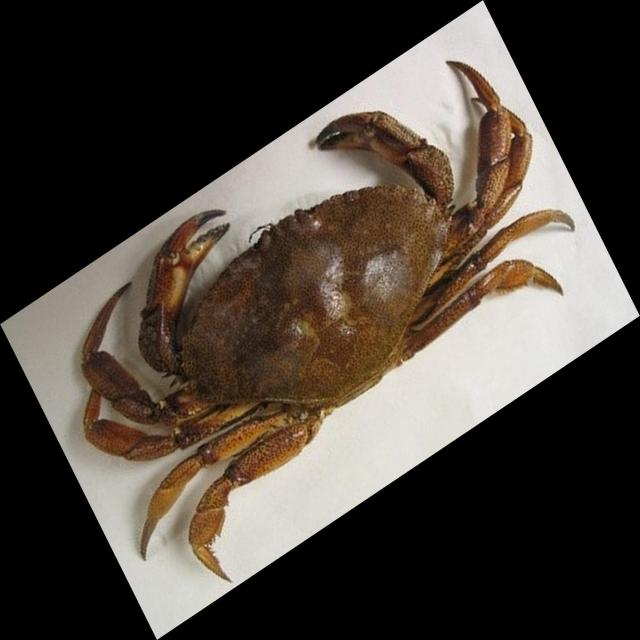Native Rock crab: (82, 61, 574, 580)
